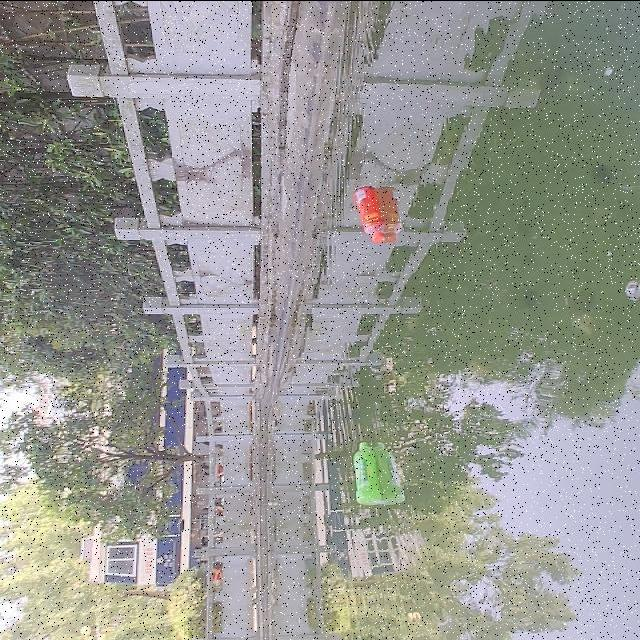Bottle: (350, 434, 394, 512), (350, 179, 396, 247)
